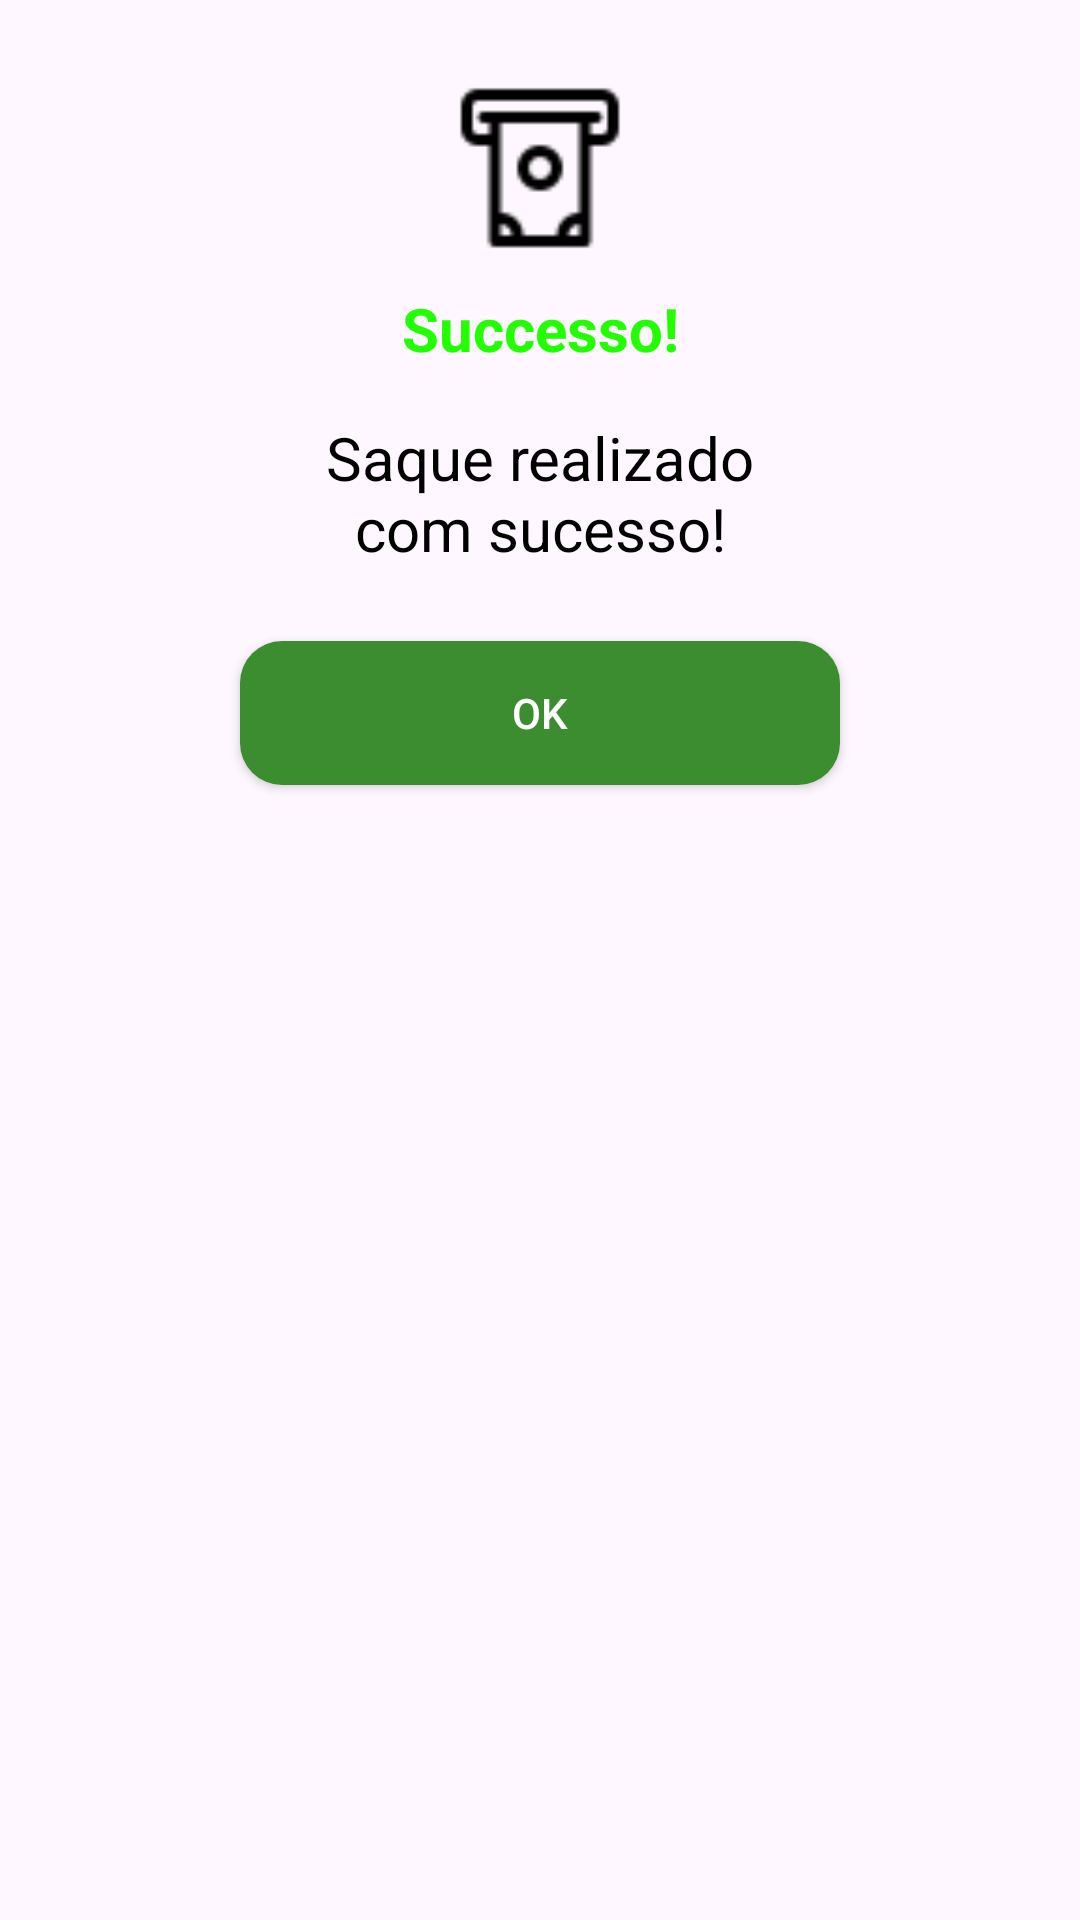

Where icons sit on this 1080px×1920px app screen, as (x1, y1, x2, y2):
sucesso saque: (460, 88, 620, 248)
